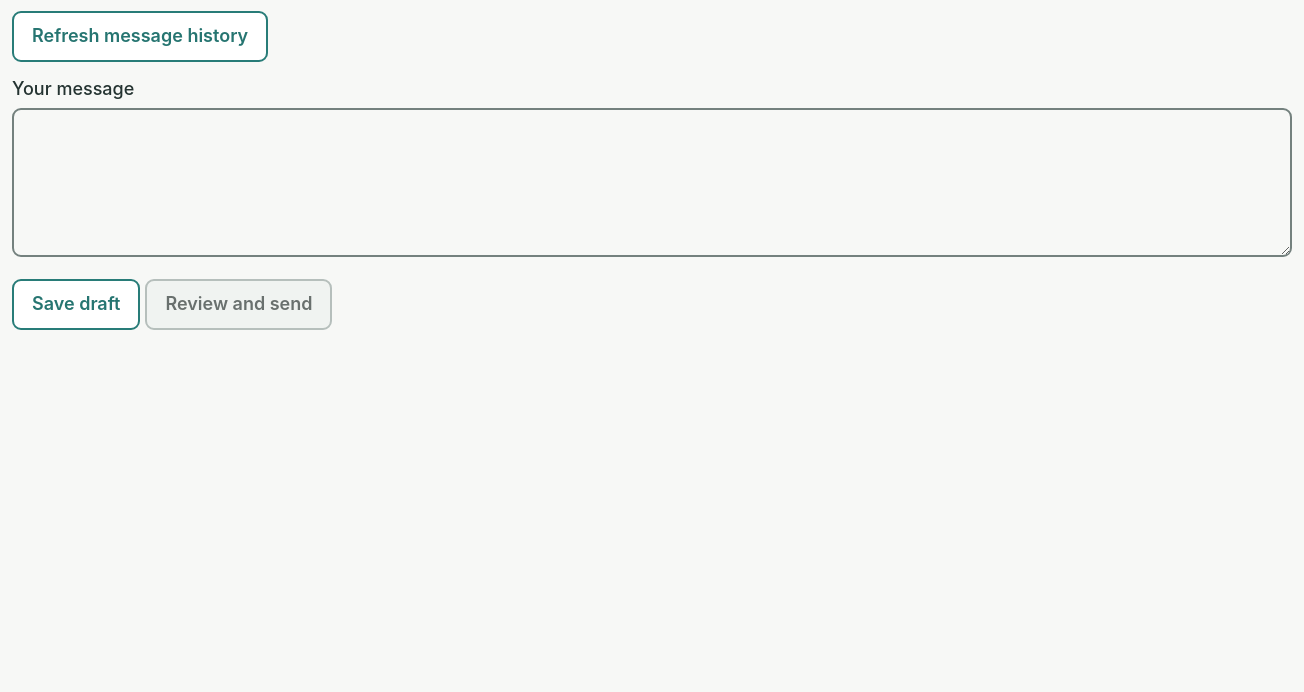
Scenario: MessagePanel (Doc 20 §158–161 send confirmation) › a draft containing a link raises an inline reminder that keeps the draft intact
Type "Please look at http://example.com/prize" into the text box labelled "Your message".
click(652, 183); type("Please look at http://example.com/prize")  # box [12,108,1292,257]
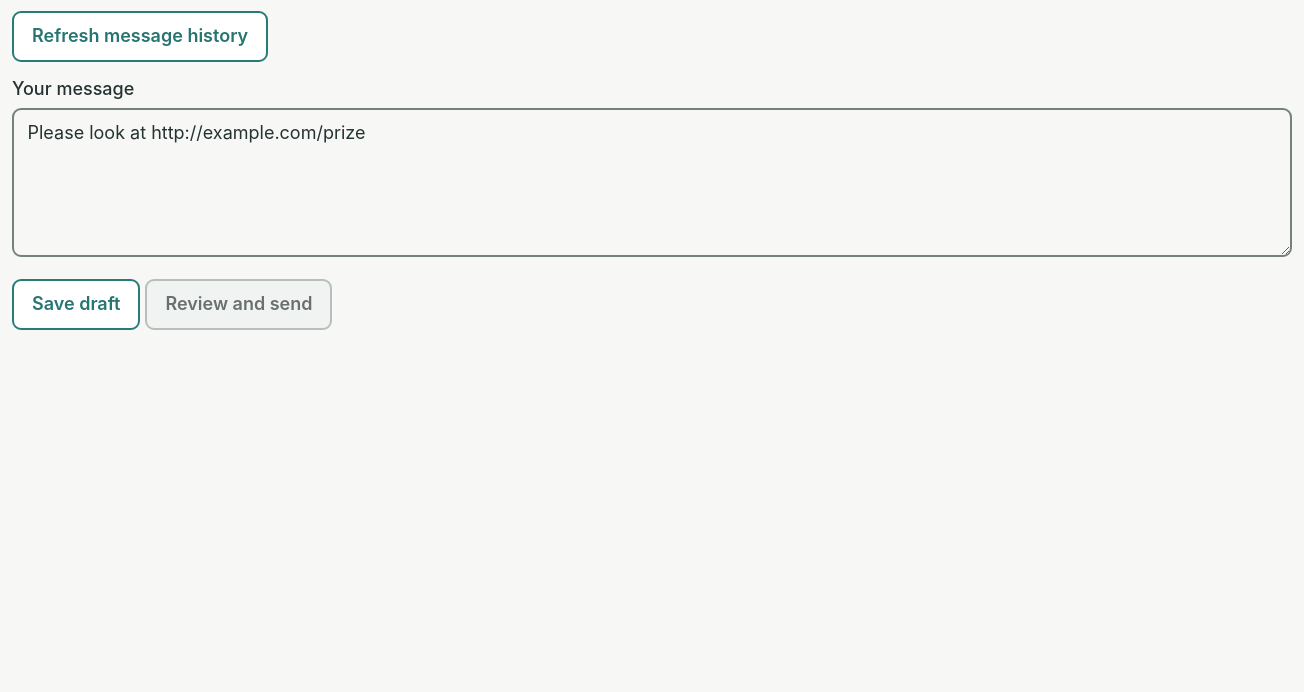
Click the button "Save draft".
click(76, 305)  # box [12,279,140,330]
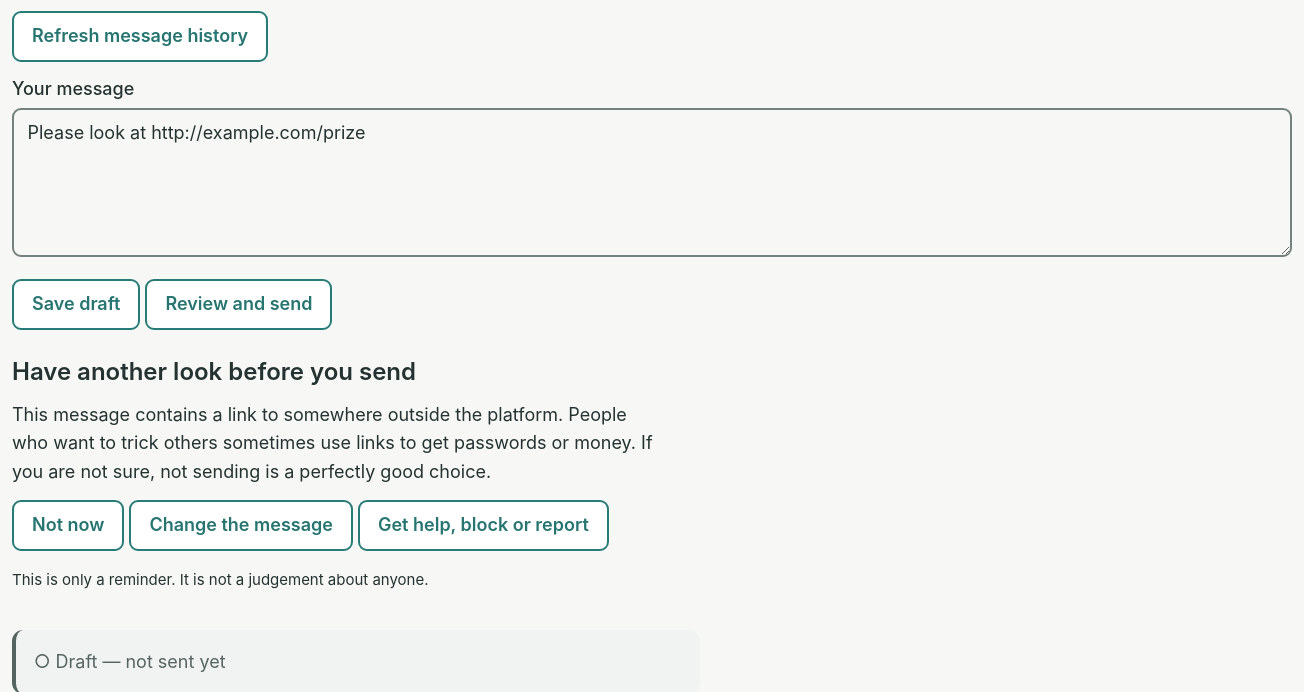
expect the heading "Have another look before you send" is shown: met, box [12,357,416,386]
expect the text "This is only a reminder. It is not a judgement about anyone." is shown: met, box [12,570,428,589]
expect the button "Get help, block or report" is shown: met, box [358,500,609,551]
# "Not now" must not throw away what was written.
Click the button "Not now".
click(68, 526)  # box [12,500,124,551]
(page scrolled)
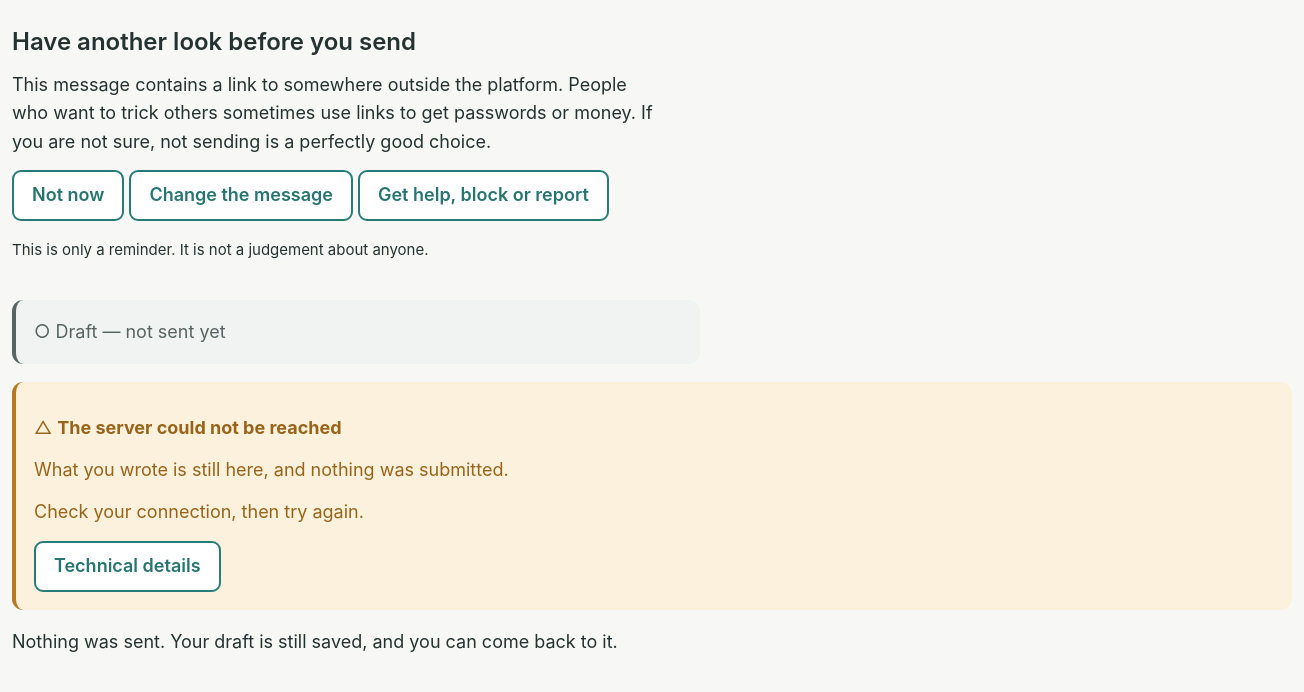
expect the message "Nothing was sent. Your draft is still saved, and you can come back to it." is shown: met, box [12,628,660,656]
